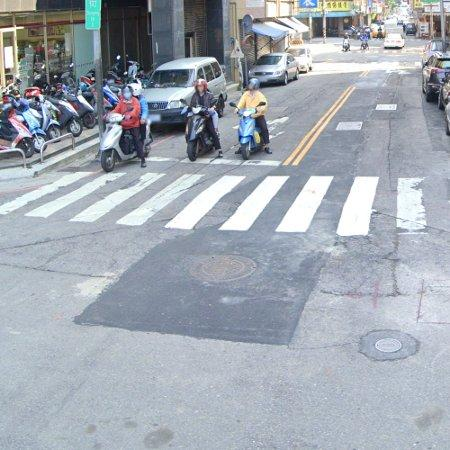crosswalks: (4, 171, 431, 236)
